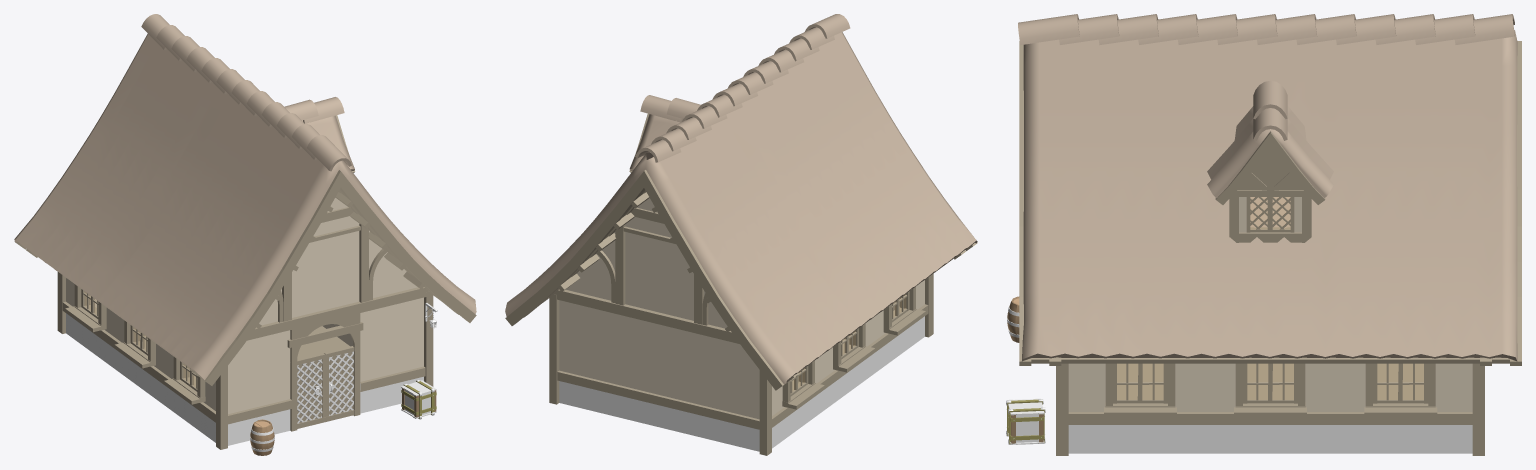
The model's file is eastbrook_warehouse.glb.
3 views of the same model, side by side, from view 1: azimuth 30°, elevation 25°; view 2: azimuth 150°, elevation 25°; view 3: azimuth 270°, elevation 25° (orthographic). The views are drawn at different scales.
Visible parts, largest first — view 1: civic-warehouse:roof:village/MI_RoundTiles, civic-warehouse:roof:village/MI_WoodTrim, civic-warehouse:structure:village/MI_Plaster, civic-warehouse:structure:village/MI_WoodTrim, civic-warehouse:roof:village/MI_Plaster, civic-warehouse:structure:village/MI_UnevenBrick, civic-warehouse:window:village/MI_WoodTrim, civic-warehouse:entry-leaf:village/MI_WoodTrim_Wear, civic-warehouse:entry-leaf:village/MI_MetalOrnaments, civic-warehouse:furniture:props/MI_Trim_Furniture (×2), civic-warehouse:floor:village/MI_WoodTrim; view 2: civic-warehouse:roof:village/MI_RoundTiles, civic-warehouse:structure:village/MI_Plaster, civic-warehouse:roof:village/MI_WoodTrim, civic-warehouse:structure:village/MI_UnevenBrick, civic-warehouse:roof:village/MI_Plaster, civic-warehouse:structure:village/MI_WoodTrim, civic-warehouse:window:village/MI_WoodTrim; view 3: civic-warehouse:roof:village/MI_RoundTiles, civic-warehouse:roof:village/MI_WoodTrim, civic-warehouse:structure:village/MI_UnevenBrick, civic-warehouse:structure:village/MI_Plaster, civic-warehouse:window:village/MI_WoodTrim, civic-warehouse:structure:village/MI_WoodTrim, civic-warehouse:floor:village/MI_WoodTrim, civic-warehouse:furniture:props/MI_Trim_Furniture, civic-warehouse:roof:village/MI_Plaster.
Boxes of the visible parts, bbox=[...] form: civic-warehouse:roof:village/MI_RoundTiles: bbox=[14, 14, 476, 380]; civic-warehouse:roof:village/MI_WoodTrim: bbox=[14, 115, 476, 385]; civic-warehouse:structure:village/MI_Plaster: bbox=[66, 278, 423, 413]; civic-warehouse:structure:village/MI_WoodTrim: bbox=[57, 272, 433, 449]; civic-warehouse:roof:village/MI_Plaster: bbox=[259, 198, 417, 325]; civic-warehouse:structure:village/MI_UnevenBrick: bbox=[66, 313, 423, 445]; civic-warehouse:window:village/MI_WoodTrim: bbox=[65, 284, 205, 404]; civic-warehouse:entry-leaf:village/MI_WoodTrim_Wear: bbox=[290, 346, 354, 428]; civic-warehouse:entry-leaf:village/MI_MetalOrnaments: bbox=[297, 351, 353, 423]; civic-warehouse:furniture:props/MI_Trim_Furniture (×2): bbox=[250, 380, 436, 455]; civic-warehouse:floor:village/MI_WoodTrim: bbox=[140, 326, 349, 380]; civic-warehouse:roof:village/MI_RoundTiles: bbox=[505, 14, 977, 384]; civic-warehouse:structure:village/MI_Plaster: bbox=[559, 280, 924, 419]; civic-warehouse:roof:village/MI_WoodTrim: bbox=[505, 113, 977, 390]; civic-warehouse:structure:village/MI_UnevenBrick: bbox=[559, 316, 924, 451]; civic-warehouse:roof:village/MI_Plaster: bbox=[565, 198, 727, 328]; civic-warehouse:structure:village/MI_WoodTrim: bbox=[549, 273, 933, 455]; civic-warehouse:window:village/MI_WoodTrim: bbox=[782, 286, 925, 409]; civic-warehouse:roof:village/MI_RoundTiles: bbox=[1018, 14, 1517, 361]; civic-warehouse:roof:village/MI_WoodTrim: bbox=[1019, 41, 1521, 365]; civic-warehouse:structure:village/MI_UnevenBrick: bbox=[1068, 425, 1472, 453]; civic-warehouse:structure:village/MI_Plaster: bbox=[1068, 363, 1472, 411]; civic-warehouse:window:village/MI_WoodTrim: bbox=[1104, 363, 1437, 417]; civic-warehouse:structure:village/MI_WoodTrim: bbox=[1056, 363, 1484, 455]; civic-warehouse:floor:village/MI_WoodTrim: bbox=[1117, 363, 1423, 396]; civic-warehouse:furniture:props/MI_Trim_Furniture: bbox=[1007, 398, 1044, 444]; civic-warehouse:roof:village/MI_Plaster: bbox=[1239, 197, 1301, 232].
Size of the model in its own units: 8.25 by 7.89 by 9.91.
